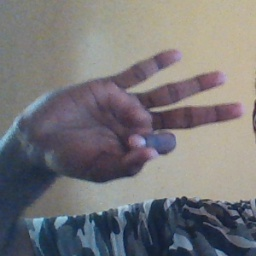K: (15, 49, 248, 185)
